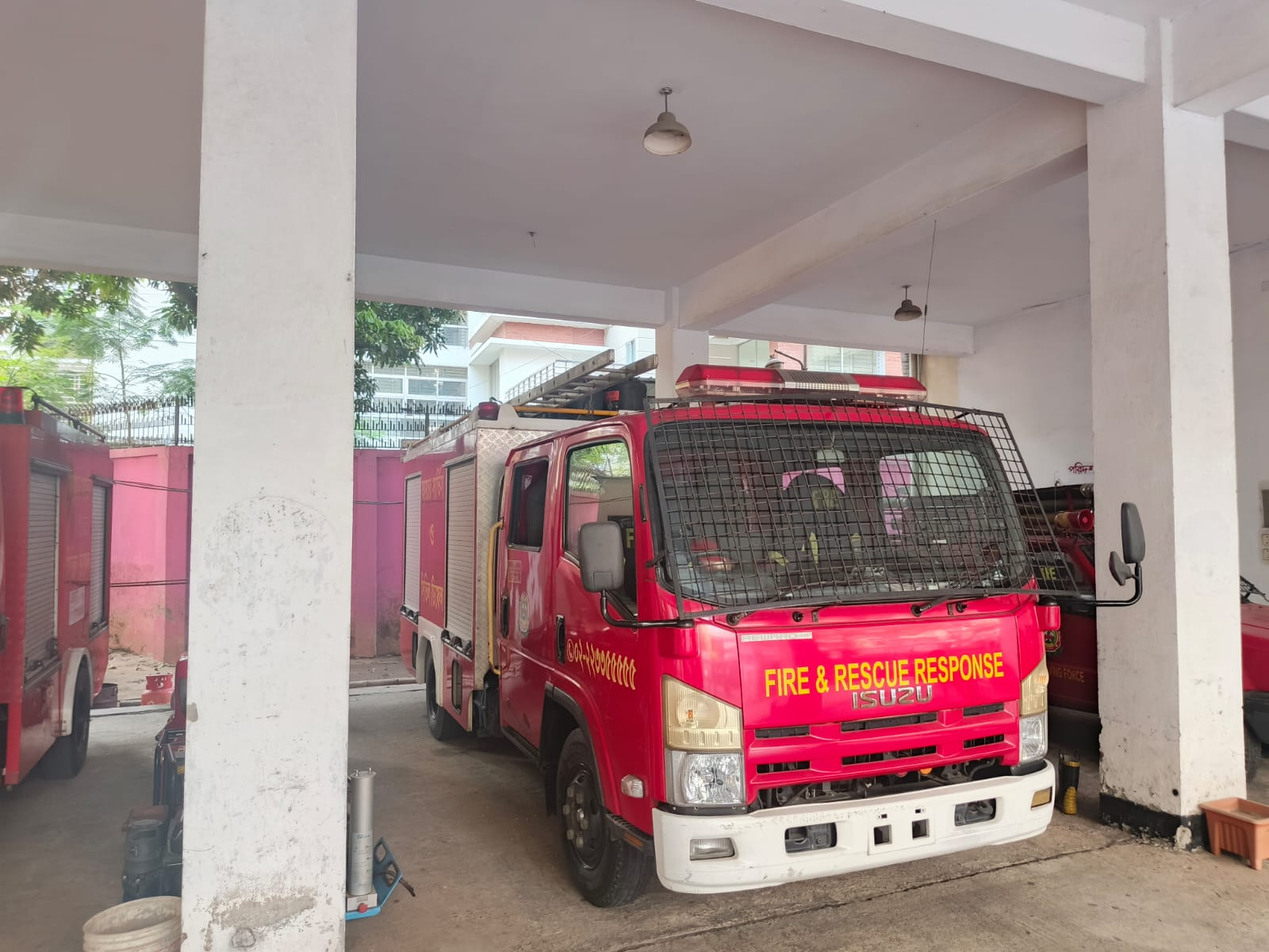Fire truck: (389, 358, 1156, 922)
